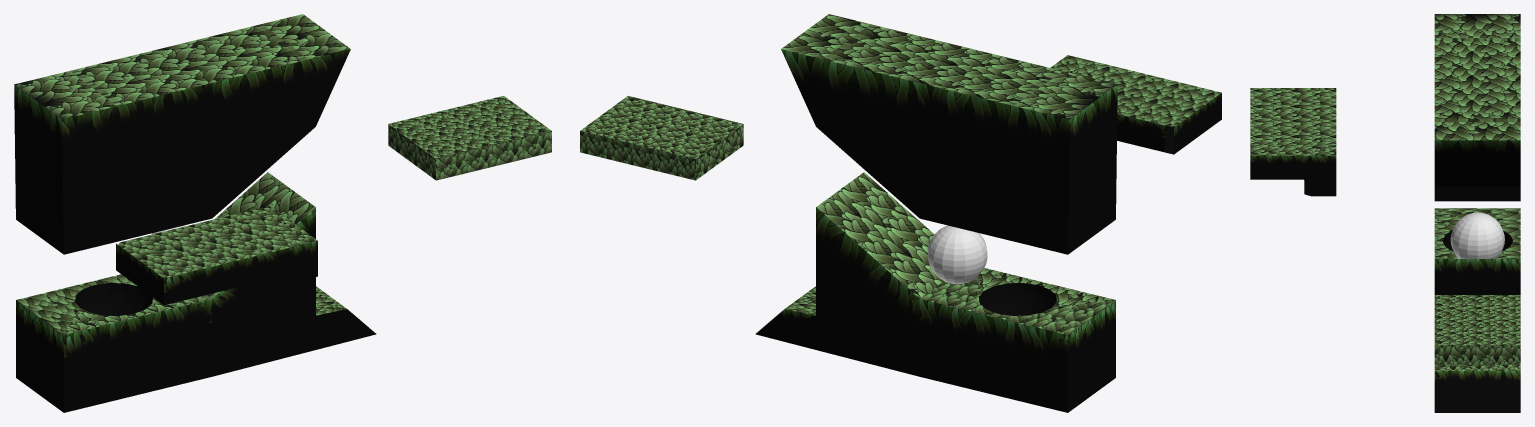
Rendered from NewEnvironment.fbx.
3 renders of one model, left to right at view 1: azimuth 30°, elevation 25°; view 2: azimuth 150°, elevation 25°; view 3: azimuth 270°, elevation 25°, orthographic. The views are drawn at different scales.
Parts seen in each view (by area): view 1: UpperFloor, LowerFloor, Roof, Platform; view 2: UpperFloor, LowerFloor, Platform, Roof, Ball; view 3: UpperFloor, LowerFloor, Roof, Platform, Ball.
Boxes of the visible parts, x1=… form: UpperFloor: x1=14, y1=14, x2=350, y2=254; LowerFloor: x1=16, y1=172, x2=376, y2=412; Roof: x1=116, y1=206, x2=317, y2=305; Platform: x1=388, y1=96, x2=551, y2=180; UpperFloor: x1=781, y1=14, x2=1117, y2=254; LowerFloor: x1=755, y1=172, x2=1115, y2=412; Platform: x1=580, y1=96, x2=743, y2=180; Roof: x1=1050, y1=55, x2=1221, y2=154; Ball: x1=927, y1=225, x2=987, y2=284; UpperFloor: x1=1434, y1=14, x2=1520, y2=201; LowerFloor: x1=1434, y1=208, x2=1520, y2=412; Roof: x1=1250, y1=88, x2=1336, y2=196; Platform: x1=1434, y1=295, x2=1520, y2=364; Ball: x1=1450, y1=212, x2=1504, y2=258.
Size of what is drawn, in the model's own units: 2364 by 1352 by 1259.
